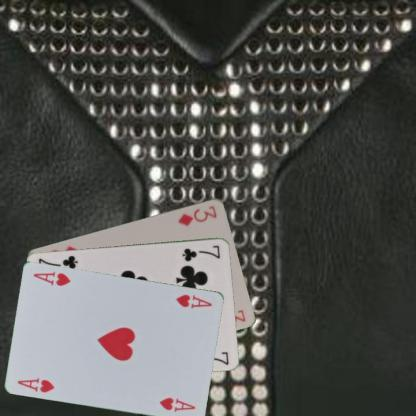3d: (176, 203, 218, 227)
7c: (180, 242, 222, 262)
Ah: (173, 291, 214, 310), (15, 375, 56, 393)
